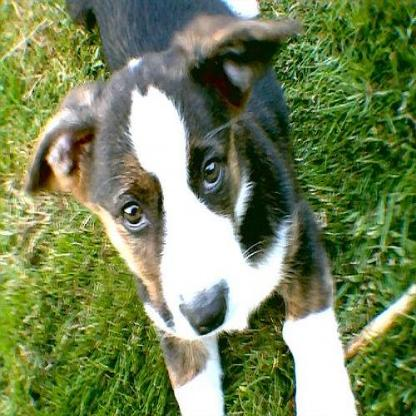Cardigan: (26, 0, 357, 413)
